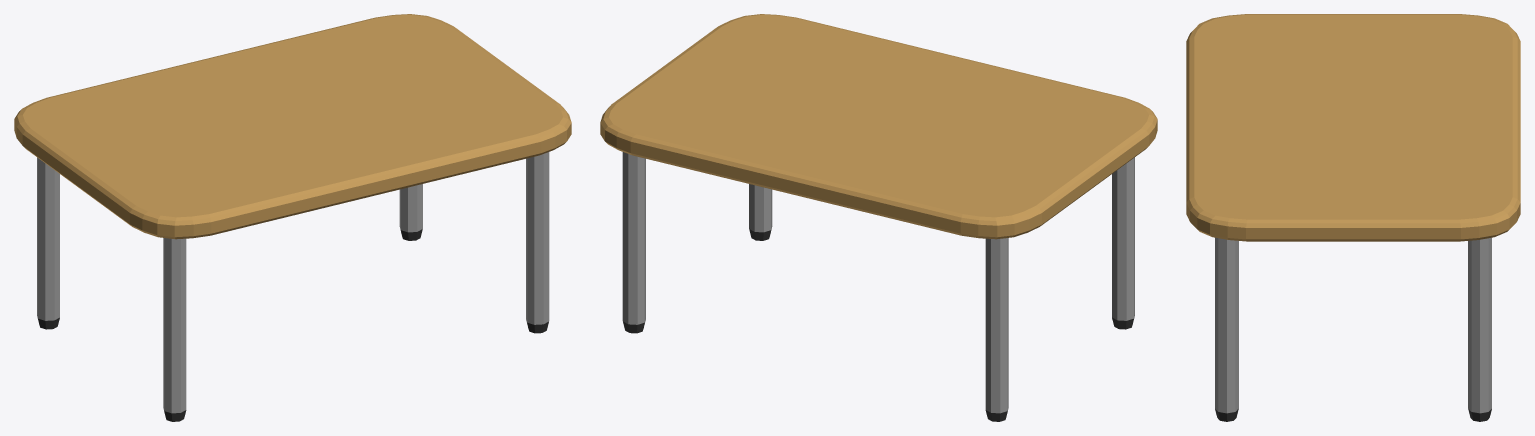
Rendered from SM_LibraryTable.fbx.
3 views of the same model, side by side, from view 1: azimuth 30°, elevation 25°; view 2: azimuth 150°, elevation 25°; view 3: azimuth 270°, elevation 25° (orthographic).
Parts seen in each view (by area): view 1: SM_LibraryTable; view 2: SM_LibraryTable; view 3: SM_LibraryTable.
Boxes of the visible parts, x1,y1,x2,y2 form: SM_LibraryTable: [14, 14, 571, 421]; SM_LibraryTable: [600, 14, 1157, 421]; SM_LibraryTable: [1186, 14, 1520, 421].
Bounding box in the file's own units: 150 × 70 × 100.
